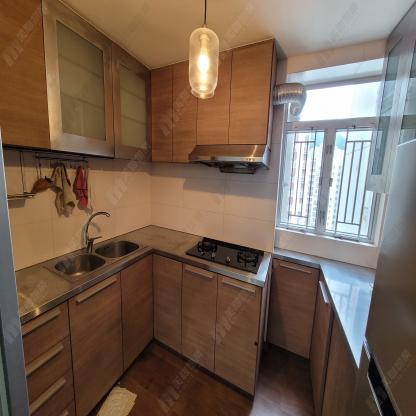Cupboard: (19, 253, 359, 416), (0, 0, 275, 163)
Exhaust Hood: (188, 143, 271, 174)
Faucet: (82, 208, 111, 250)
Fridge: (350, 139, 416, 416)
Sink: (43, 235, 149, 284)
Stove: (186, 236, 264, 272)
